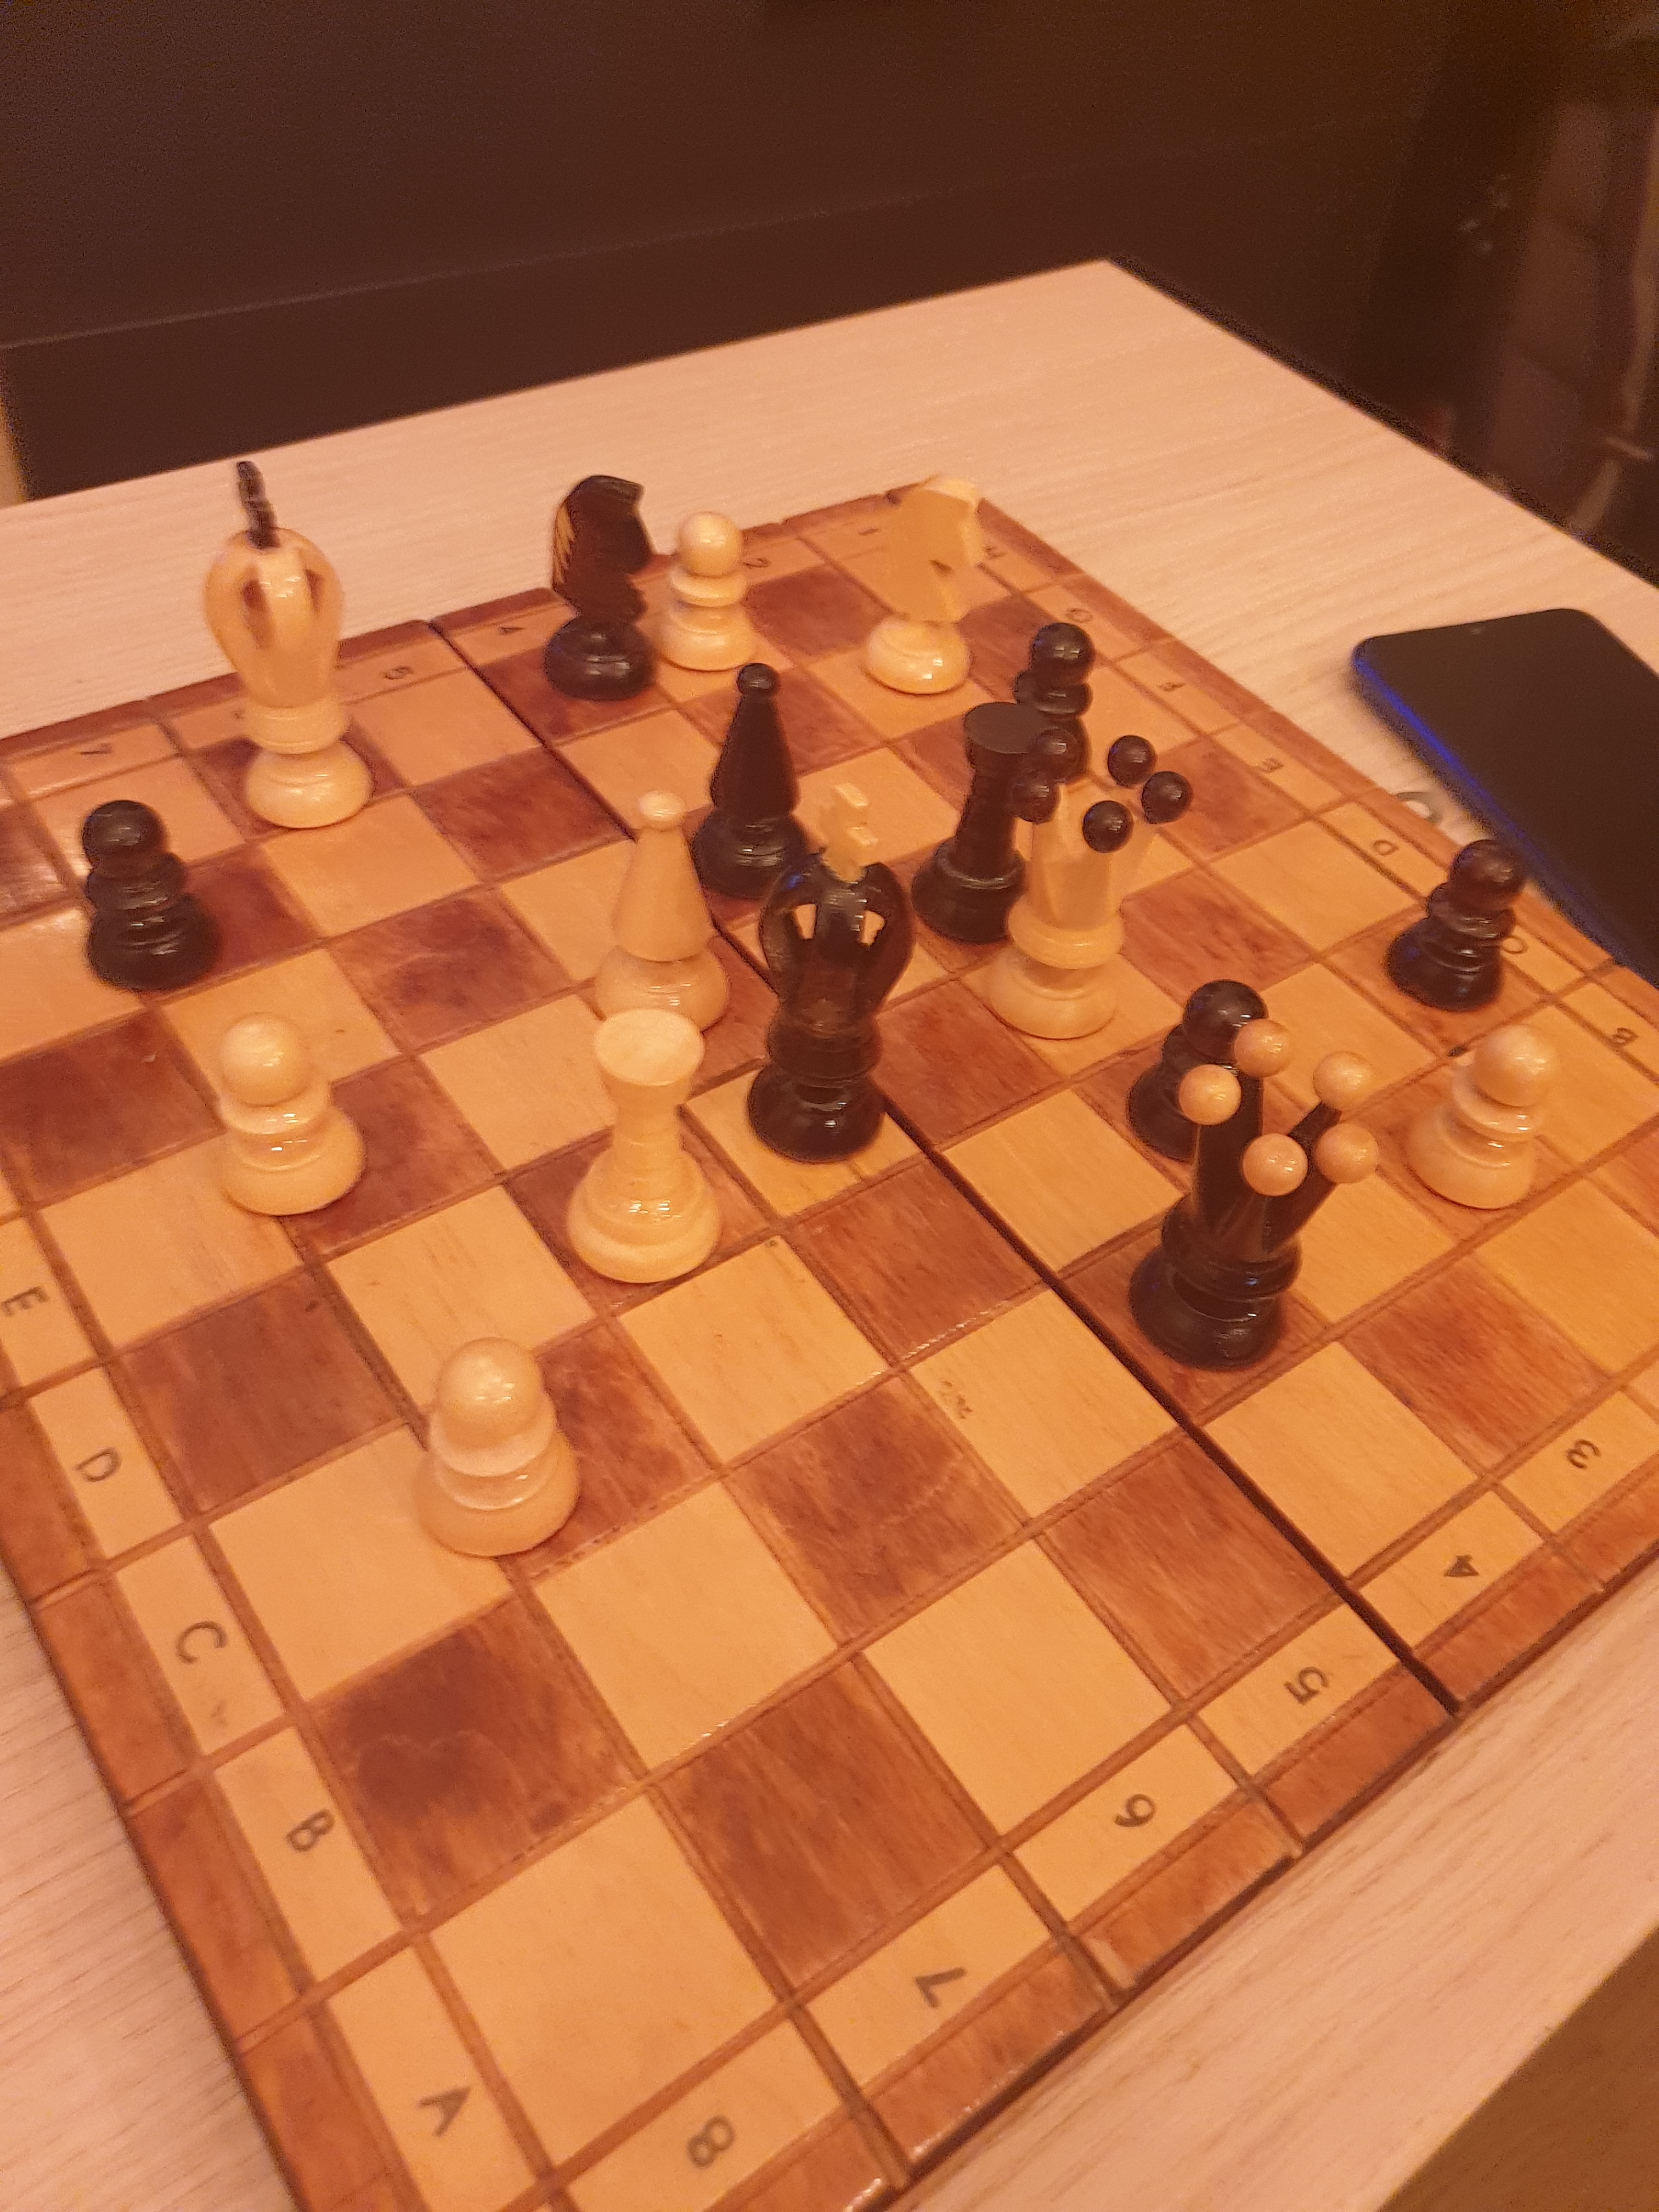bbishop: (683, 641, 830, 914)
bking: (730, 777, 929, 1181)
bknight: (538, 462, 669, 718)
bpawn: (66, 787, 230, 1010), (1108, 968, 1277, 1169), (1370, 827, 1528, 1031), (1002, 611, 1103, 810)
bqueen: (1115, 1015, 1380, 1386)
brook: (904, 691, 1068, 954)
wbishop: (582, 787, 744, 1050)
wking: (186, 441, 394, 841)
wknight: (847, 460, 993, 709)
wpawn: (406, 1318, 594, 1573), (186, 998, 390, 1231), (1387, 1019, 1570, 1228), (648, 500, 760, 686)
wqueen: (971, 718, 1197, 1069)
wrook: (556, 1000, 730, 1299)
